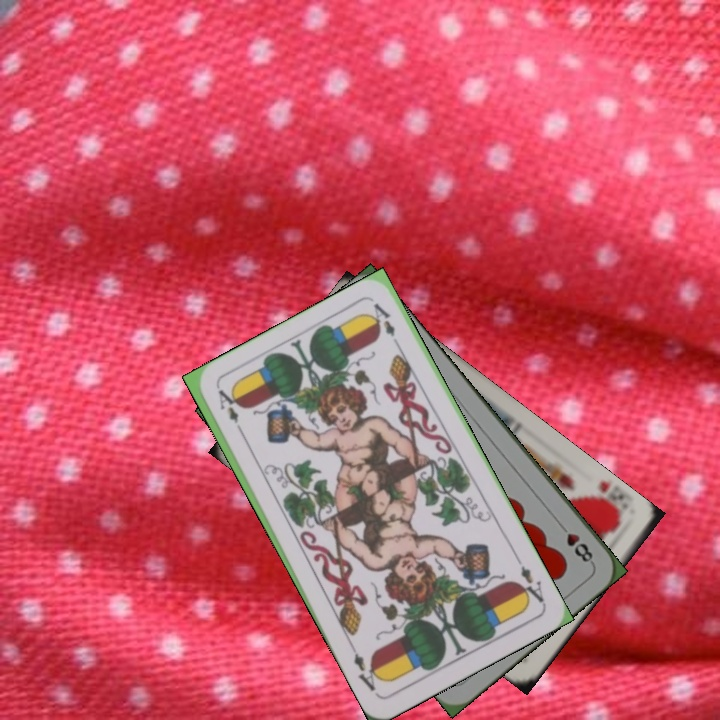EA: (214, 385, 248, 439), (513, 561, 548, 607)
H8: (553, 517, 596, 567)
HK: (587, 476, 624, 521)
